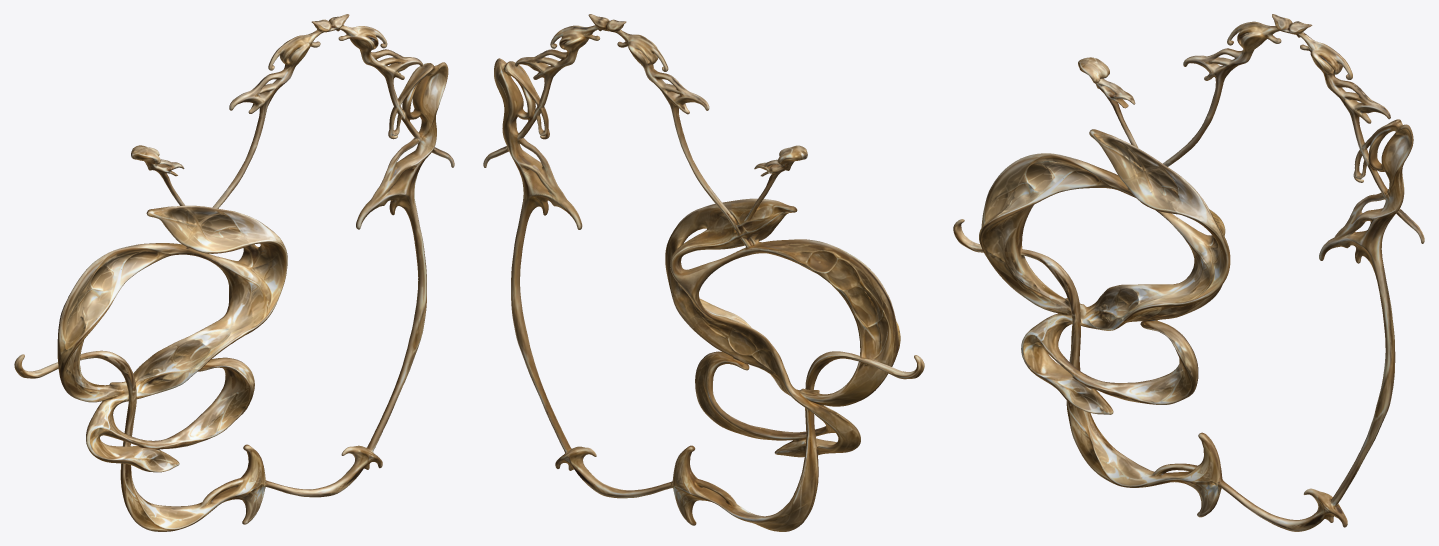
File: endure.glb
3 renders of one model, left to right at view 1: azimuth 30°, elevation 25°; view 2: azimuth 150°, elevation 25°; view 3: azimuth 330°, elevation 25°, orthographic. The views are drawn at different scales.
Parts seen in each view (by area): view 1: tripo_node_1c43dbe0-77ce-4661-a486-8c18fabb035f; view 2: tripo_node_1c43dbe0-77ce-4661-a486-8c18fabb035f; view 3: tripo_node_1c43dbe0-77ce-4661-a486-8c18fabb035f.
Boxes of the visible parts, x1,y1,x2,y2 form: tripo_node_1c43dbe0-77ce-4661-a486-8c18fabb035f: (14, 14, 454, 531); tripo_node_1c43dbe0-77ce-4661-a486-8c18fabb035f: (483, 14, 924, 531); tripo_node_1c43dbe0-77ce-4661-a486-8c18fabb035f: (953, 14, 1424, 531).
Bounding box in the file's own units: 0.9269 × 0.9807 × 0.1016.
1 material, 1 textured.
